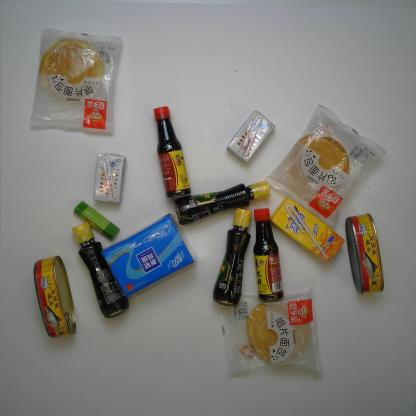Canned Food: (21, 247, 96, 357), (338, 201, 392, 310)
Dessert: (274, 66, 388, 237), (204, 285, 340, 389), (22, 13, 127, 142)
Drink: (263, 192, 346, 275)
Milk: (217, 94, 282, 174), (85, 142, 136, 209)
Seasoner: (170, 173, 290, 237), (68, 219, 133, 330), (206, 198, 262, 314), (140, 97, 200, 201), (245, 198, 295, 312)
Stationery: (62, 196, 124, 245)
Tissue: (97, 210, 201, 311)
